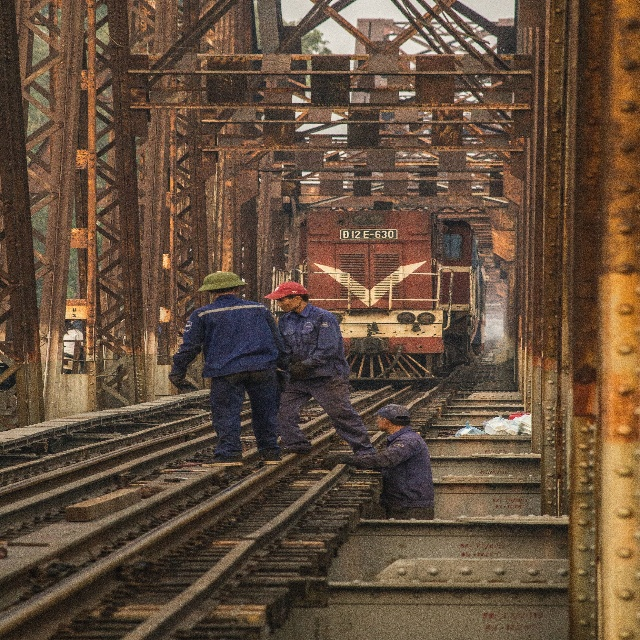Guantes: (287, 359, 306, 384), (320, 455, 344, 470), (170, 373, 189, 388)
